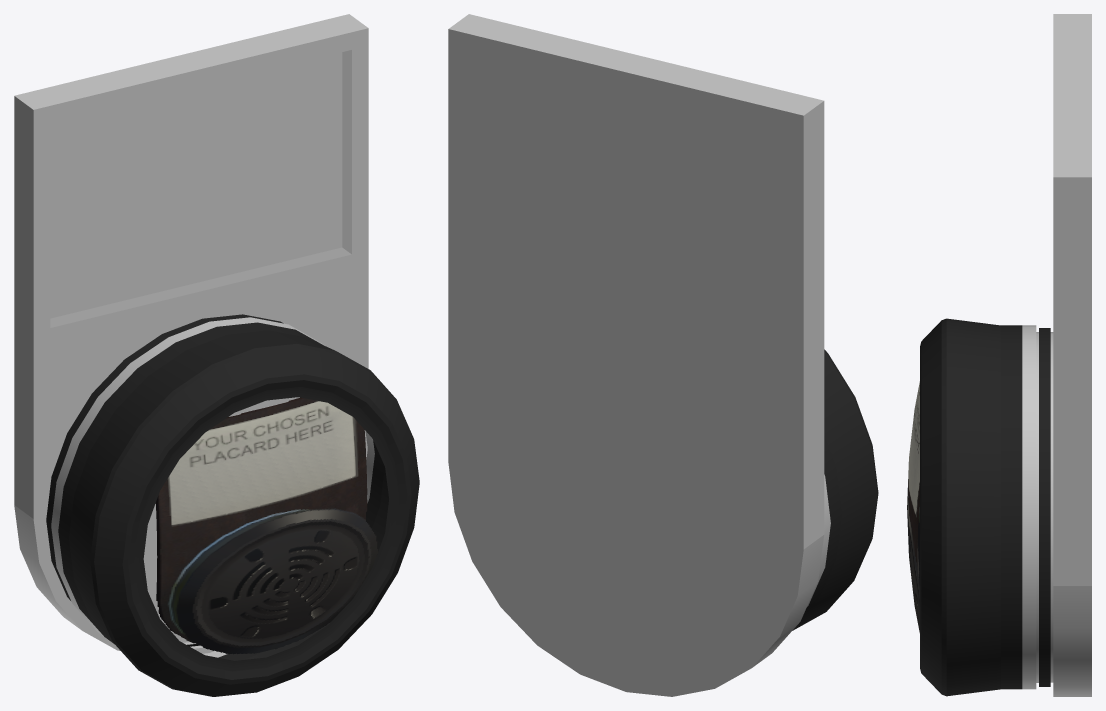
The model's file is speaker.dae.
The picture shows the model from 3 angles, left to right: view 1: azimuth 30°, elevation 25°; view 2: azimuth 150°, elevation 25°; view 3: azimuth 270°, elevation 25°; orthographic projection. The views are drawn at different scales.
Visible parts, largest first — view 1: placard (×4), speaker (×4); view 2: placard, speaker; view 3: speaker (×6), placard.
Boxes of the visible parts, left/top/right/bottom form: placard (×4): left=14, top=14, right=368, bottom=650; speaker (×4): left=46, top=314, right=419, bottom=696; placard: left=448, top=14, right=824, bottom=696; speaker: left=792, top=349, right=878, bottom=630; speaker (×6): left=907, top=318, right=1053, bottom=696; placard: left=1053, top=14, right=1091, bottom=696.
Size of the model in its own units: 1.18 by 0.5648 by 1.97.
